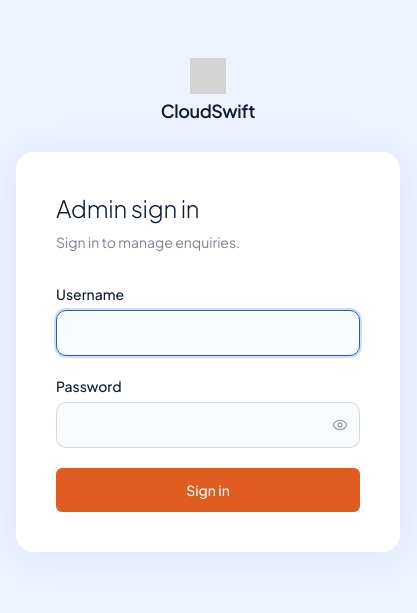
it: AdminLoginPage › shows an error message on incorrect credentials
The width and height of the screenshot is (417, 613).
Type "admin" into the field labelled "Username" at (208, 333), box [56, 310, 360, 356]
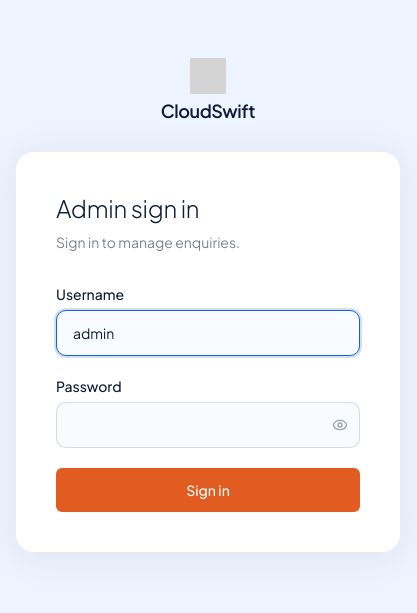
Type "wrong" into the password field labelled "Password" at (208, 425), box [56, 402, 360, 448]
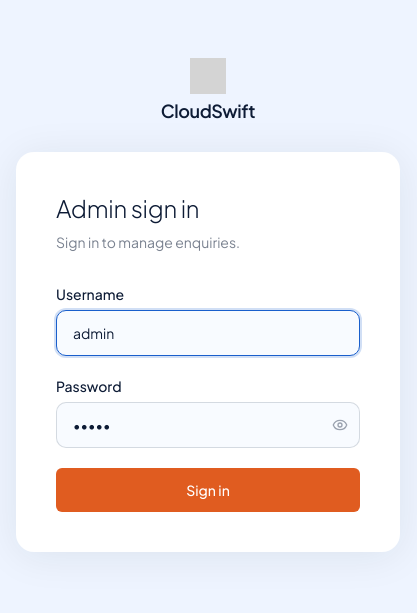
Submit the form "Sign in", box [56, 284, 360, 512]
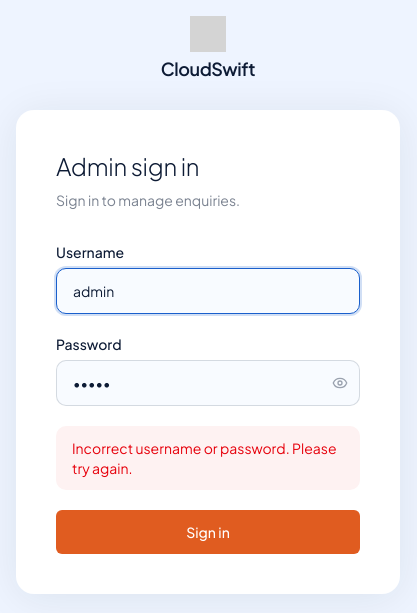
Result: the text "Incorrect username or password. Please try again." is shown at [56, 426, 360, 490]
